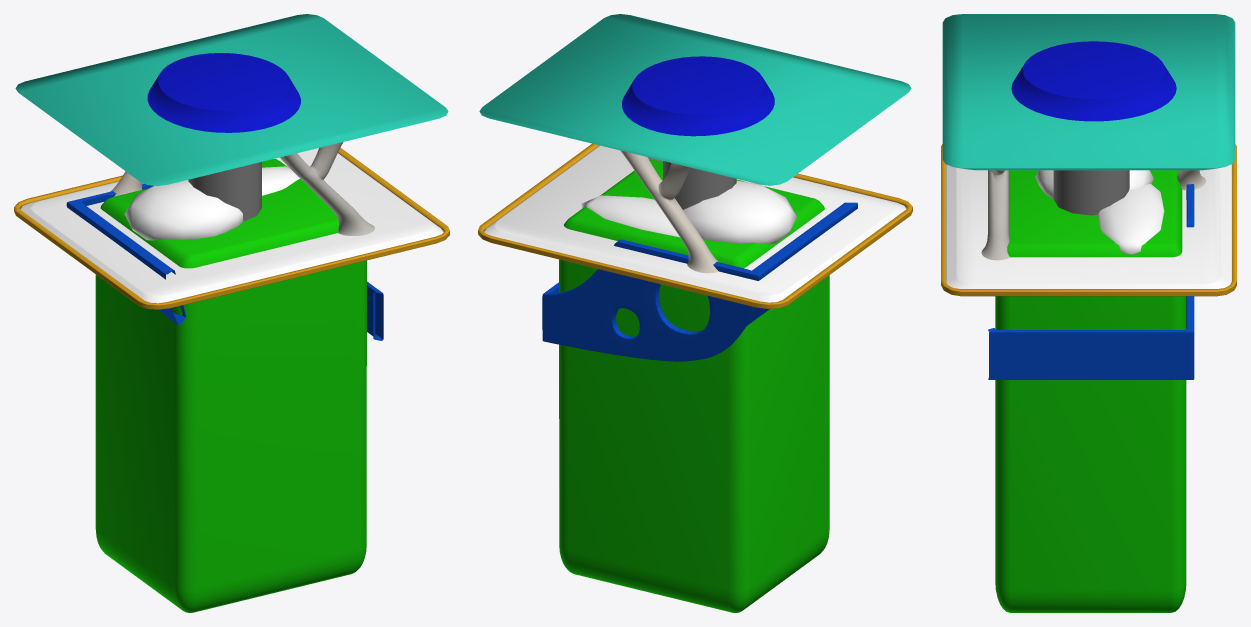
The model's file is TreePillars.fbx.
3 views of the same model, side by side, from view 1: azimuth 30°, elevation 25°; view 2: azimuth 150°, elevation 25°; view 3: azimuth 270°, elevation 25° (orthographic). The views are drawn at different scales.
Parts seen in each view (by area): view 1: building_base, glass_box_top, glass_box_botton, cap, track, Sphere__4_, building_skin, tree_stand1_001, Cylinder, Sphere__3_; view 2: building_base, glass_box_top, glass_box_botton, building_skin, cap, track, Sphere__4_, tree_stand1, Sphere__3_, Cylinder; view 3: building_base, glass_box_top, glass_box_botton, building_skin, cap, track, Sphere__3_, Cylinder, tree_stand1_001, Sphere__4_, tree_stand1.
Boxes of the visible parts, left/top/right/bottom form: building_base: left=95, top=159, right=366, bottom=612; glass_box_top: left=15, top=14, right=448, bottom=185; glass_box_botton: left=20, top=148, right=443, bottom=303; cap: left=147, top=53, right=300, bottom=132; track: left=14, top=147, right=449, bottom=309; Sphere__4_: left=124, top=180, right=243, bottom=240; building_skin: left=66, top=183, right=383, bottom=340; tree_stand1_001: left=280, top=142, right=374, bottom=235; Cylinder: left=188, top=162, right=261, bottom=221; Sphere__3_: left=262, top=166, right=299, bottom=195; building_base: left=559, top=160, right=829, bottom=612; glass_box_top: left=479, top=14, right=911, bottom=185; glass_box_botton: left=484, top=145, right=906, bottom=302; building_skin: left=542, top=202, right=857, bottom=361; cap: left=622, top=56, right=774, bottom=136; track: left=478, top=143, right=912, bottom=308; Sphere__4_: left=683, top=180, right=796, bottom=244; tree_stand1: left=620, top=150, right=718, bottom=273; Sphere__3_: left=581, top=195, right=679, bottom=237; Cylinder: left=663, top=161, right=736, bottom=209; building_base: left=995, top=170, right=1186, bottom=612; glass_box_top: left=942, top=14, right=1235, bottom=170; glass_box_botton: left=946, top=164, right=1231, bottom=288; building_skin: left=988, top=184, right=1194, bottom=379; cap: left=1011, top=41, right=1176, bottom=121; track: left=941, top=144, right=1236, bottom=296; Sphere__3_: left=1097, top=183, right=1164, bottom=254; Cylinder: left=1053, top=170, right=1129, bottom=215; tree_stand1_001: left=981, top=170, right=1009, bottom=260; Sphere__4_: left=1035, top=170, right=1153, bottom=198; tree_stand1: left=1177, top=170, right=1205, bottom=190.
Bounding box in the file's own units: 9676 × 14473 × 7776.
